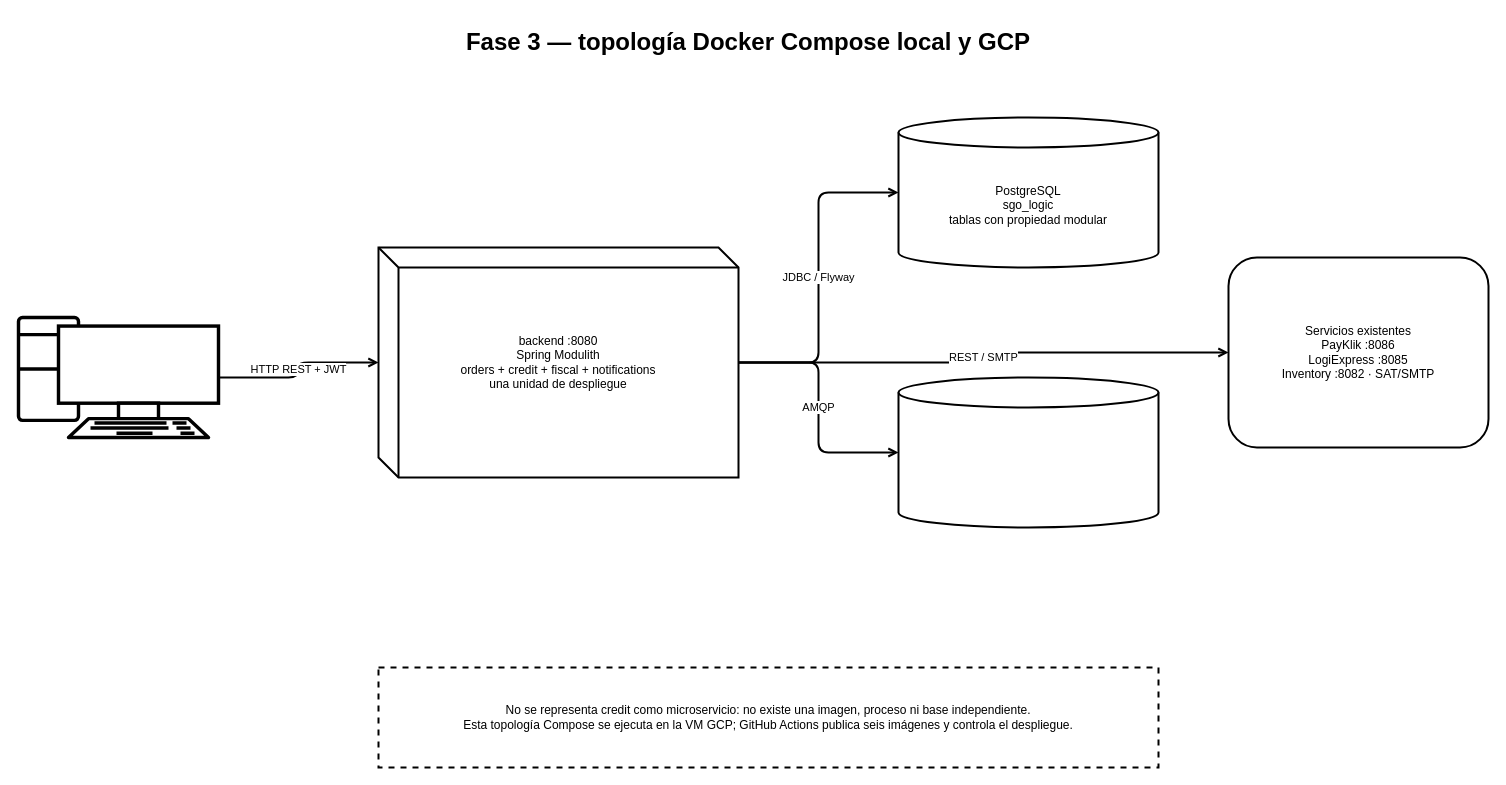
This 1506x785 diagram has some shape labels left out. Each missing label, with the centre of its shape:
"Navegador frontend :8081" goes at (x=118, y=377).
"RabbitMQ exchange + DLQ" goes at (x=1028, y=452).
